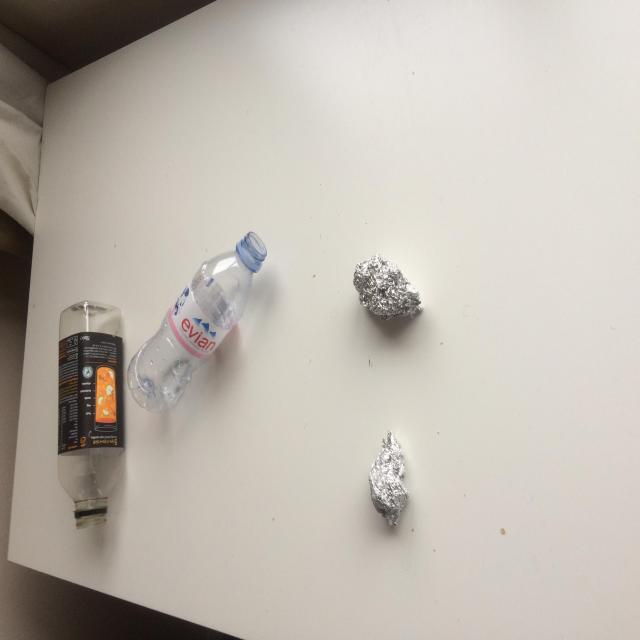bottle: (130, 238, 294, 431), (43, 296, 124, 538)
